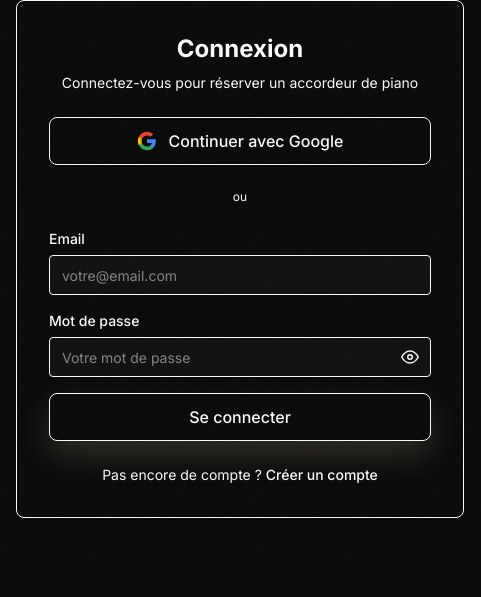
it: Login › affiche une erreur Firebase traduite
Type "test@test.com" into the field labelled "Email".
click(240, 275); type("test@test.com")  # box [49,255,431,295]
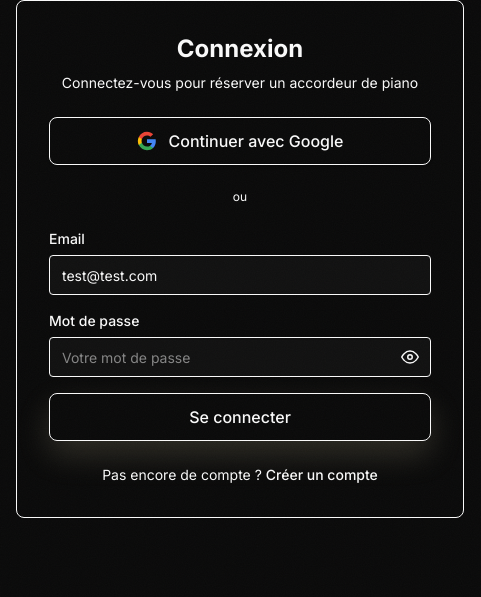
Type "wrong" into the password field labelled "Mot de passe".
click(240, 357); type("wrong")  # box [49,337,431,377]
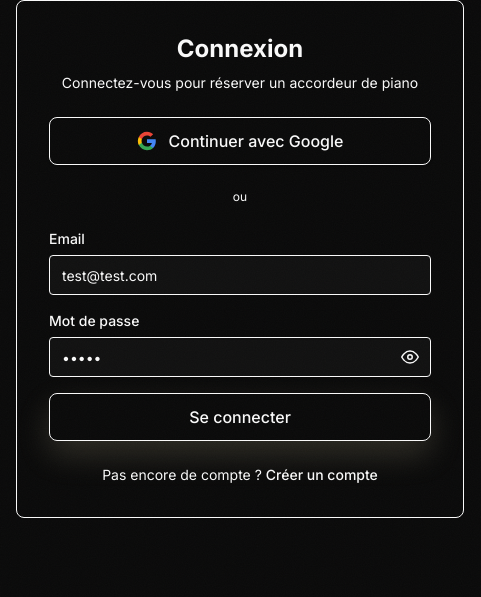
Submit the form "Email Mot de passe Se connecter", box [49,229,431,441]
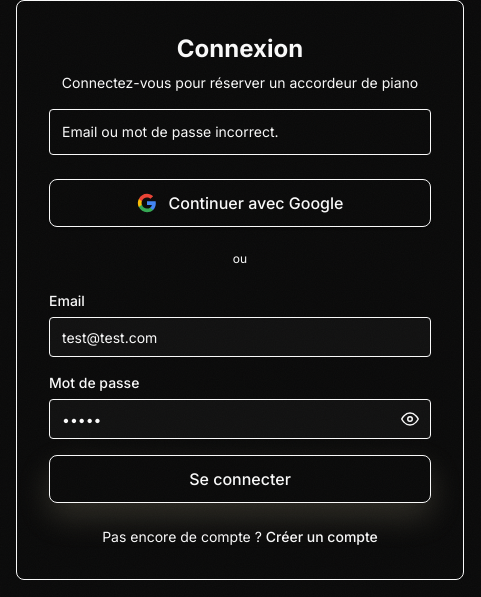
Check: the message shows "Email ou mot de passe incorrect", box [62,123,278,140]
